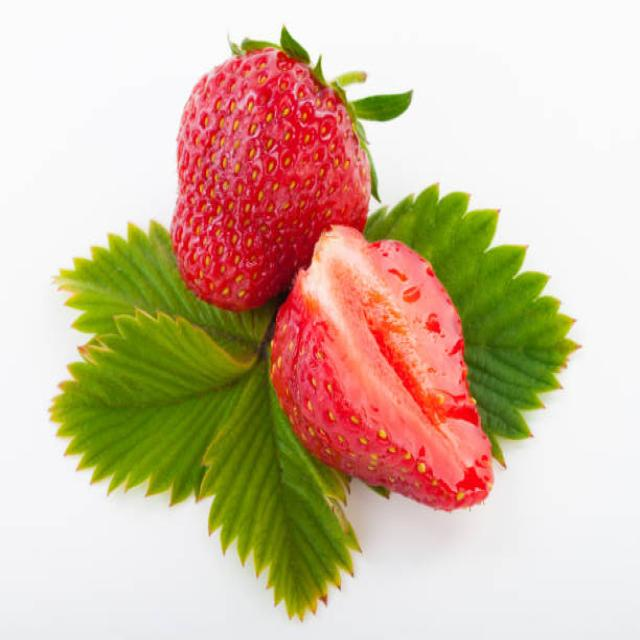Healthy Fruit: (270, 238, 496, 511), (172, 45, 371, 309)
